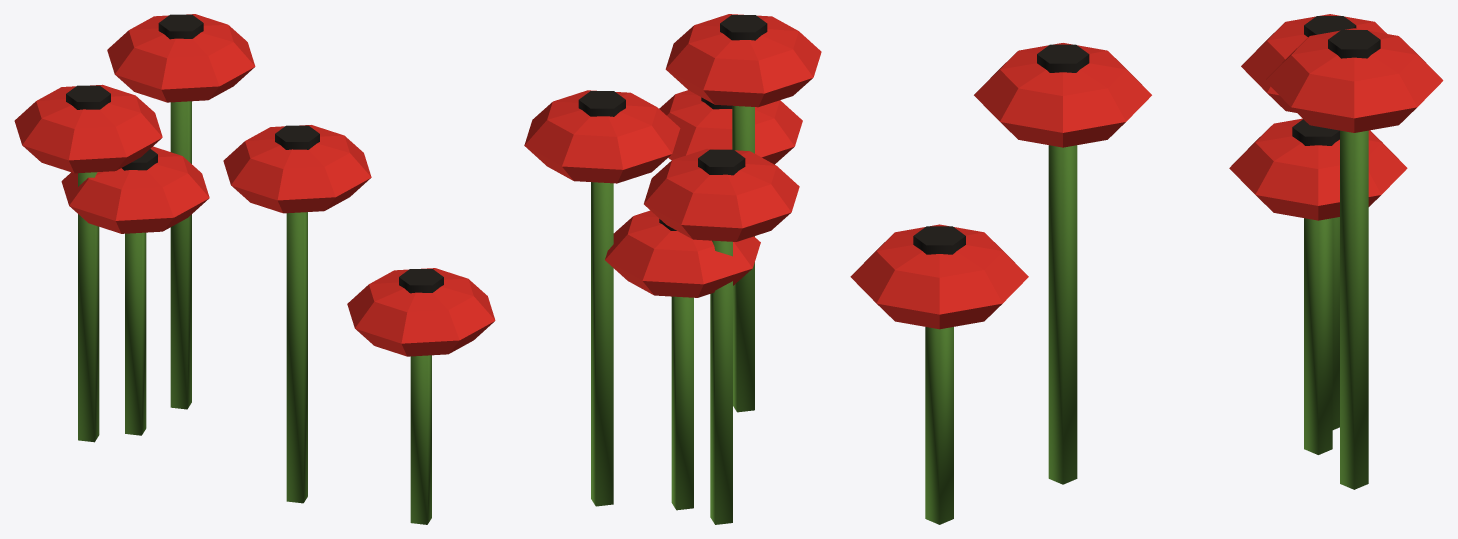
Rendered from poppies.glb.
3 renders of one model, left to right at view 1: azimuth 30°, elevation 25°; view 2: azimuth 150°, elevation 25°; view 3: azimuth 270°, elevation 25°, orthographic. The views are drawn at different scales.
Parts seen in each view (by area): view 1: poppies; view 2: poppies; view 3: poppies.
Boxes of the visible parts, box(x1,y1,x2,y2) form: poppies: box(14, 14, 495, 524); poppies: box(524, 14, 821, 524); poppies: box(850, 14, 1443, 524).
Size of the model in its own units: 0.3359 by 0.4117 by 0.4983.
